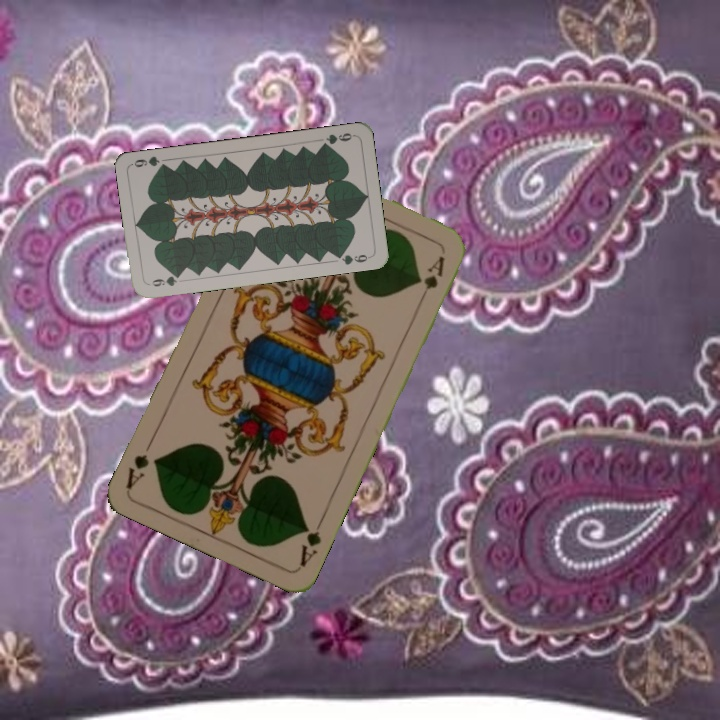G9: (317, 129, 357, 150), (148, 270, 185, 289)
GA: (295, 513, 327, 570)
